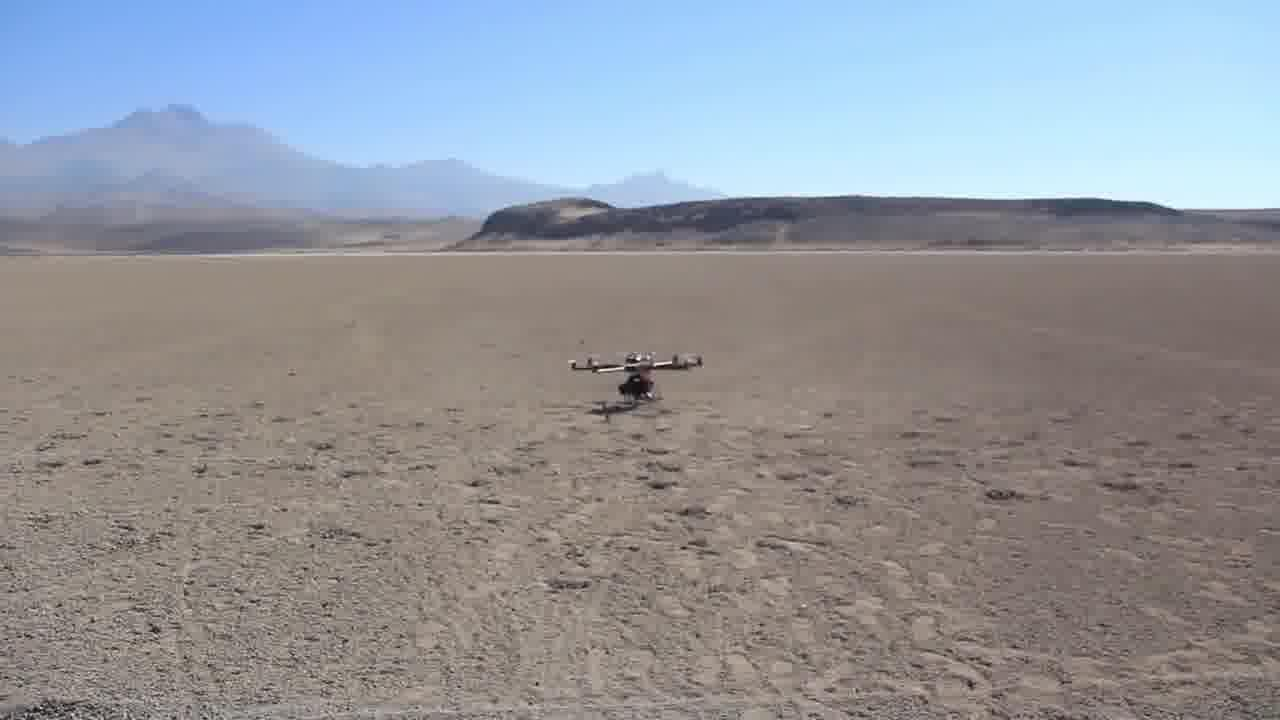drone: (561, 344, 708, 406)
